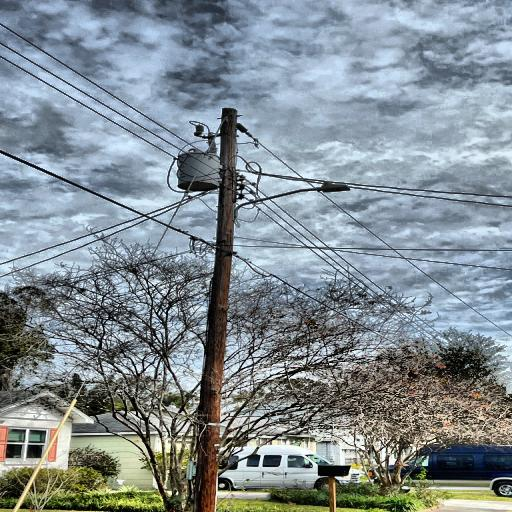pole: (174, 102, 248, 512)
street light: (231, 182, 351, 222)
transformer: (176, 150, 222, 192)
